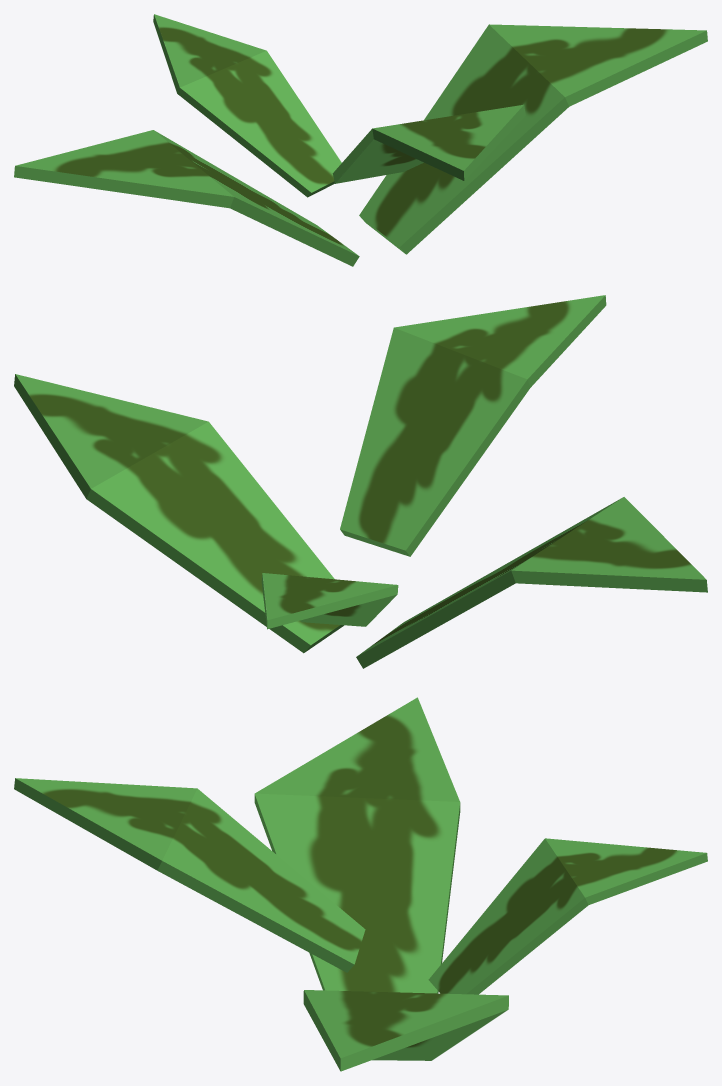
File: Plantas.fbx
3 renders of one model, top to bottom at view 1: azimuth 30°, elevation 25°; view 2: azimuth 150°, elevation 25°; view 3: azimuth 270°, elevation 25°, orthographic. The views are drawn at different scales.
Parts seen in each view (by area): view 1: Plane.002, Plane.006, Plane.001, Plane.007; view 2: Plane.002, Plane.007, Plane.001, Plane.006; view 3: Plane.001, Plane.007, Plane.006, Plane.002.
Boxes of the visible parts, x1,y1,x2,y2 form: Plane.002: (359,24,707,254); Plane.006: (153,14,341,197); Plane.001: (14,130,359,266); Plane.007: (332,104,525,183); Plane.002: (14,374,343,653); Plane.007: (340,295,606,556); Plane.001: (356,497,707,668); Plane.006: (261,573,398,629); Plane.001: (254,697,460,993); Plane.007: (14,778,365,972); Plane.006: (428,838,707,994); Plane.002: (303,990,508,1071).
Size of the model in its own units: 183 by 55.35 by 148.
Materials: 1 (1 with a texture image).
